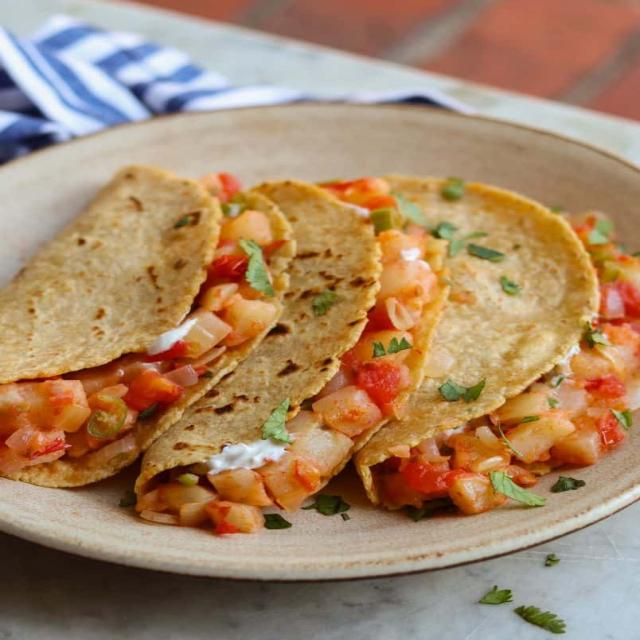arepa: (22, 188, 185, 330)
